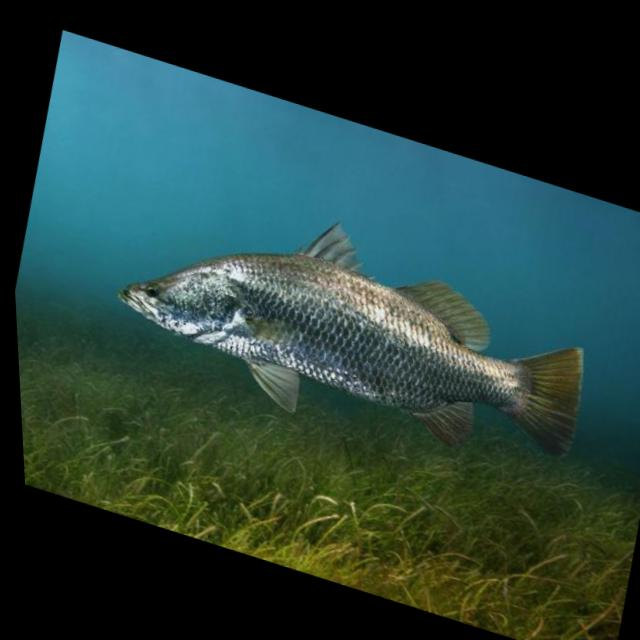Seabass: (95, 157, 608, 503)
